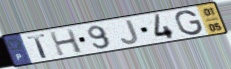4: (154, 13, 176, 41)
9: (86, 24, 113, 50)
G: (174, 9, 205, 37)
H: (48, 28, 85, 57)
J: (120, 19, 141, 46)
T: (25, 33, 51, 60)
